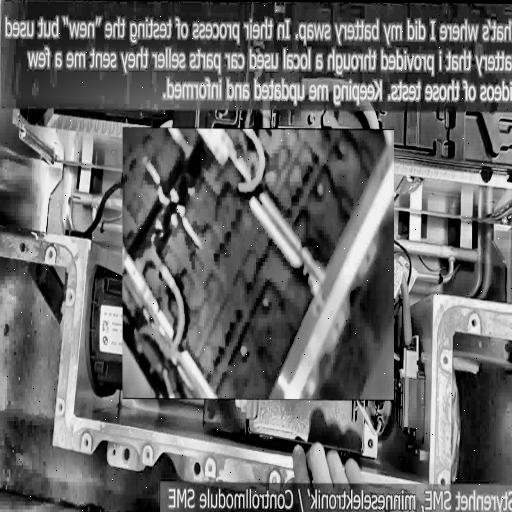high_volt_cable: (132, 259, 188, 363), (226, 128, 270, 204)
low_volt_cable: (60, 172, 124, 252)
